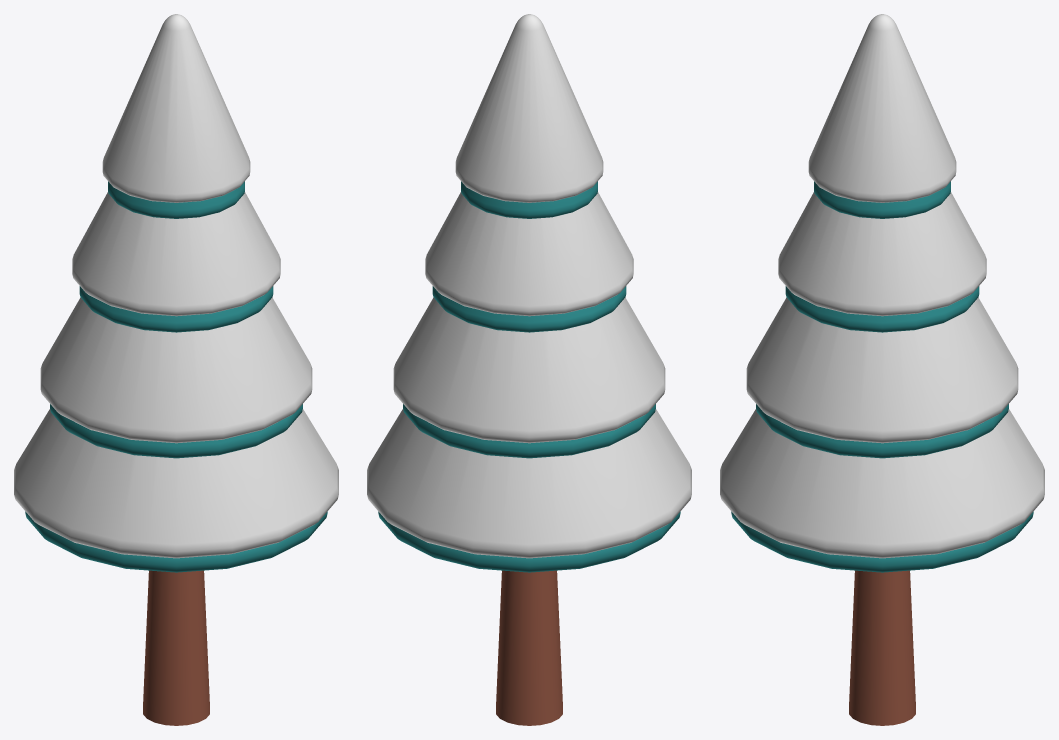
File: tree_snow_tall.gltf.glb
The picture shows the model from 3 angles, left to right: view 1: azimuth 30°, elevation 25°; view 2: azimuth 150°, elevation 25°; view 3: azimuth 270°, elevation 25°; orthographic projection.
Parts seen in each view (by area): view 1: tree_snow_tall; view 2: tree_snow_tall; view 3: tree_snow_tall.
Boxes of the visible parts, left/top/right/bottom form: tree_snow_tall: left=14, top=14, right=338, bottom=725; tree_snow_tall: left=367, top=14, right=691, bottom=725; tree_snow_tall: left=720, top=14, right=1044, bottom=725.
Size of the model in its own units: 2.2 by 5.12 by 2.17.
